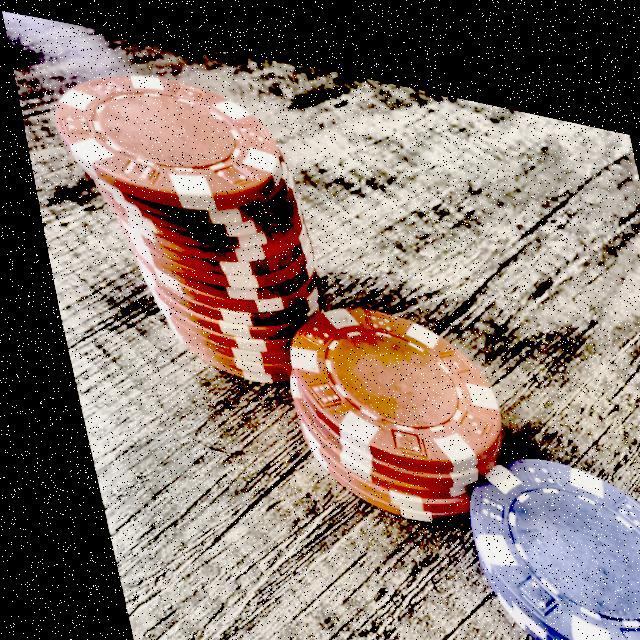Chip: (39, 45, 331, 396), (255, 270, 512, 528), (436, 417, 640, 640)
